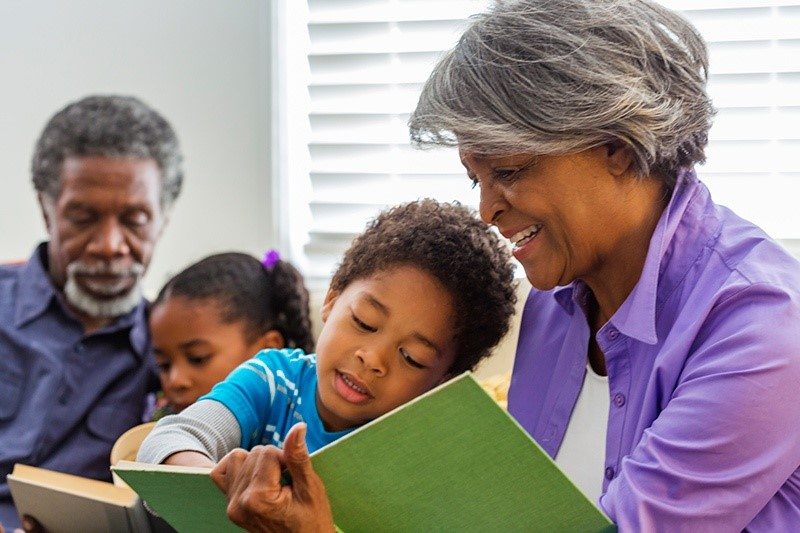face_no_mask: (422, 0, 712, 289), (314, 204, 502, 419), (33, 94, 184, 315), (146, 253, 291, 409)
